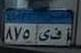5: (22, 29, 31, 40)
7: (13, 25, 22, 41)
8: (5, 25, 13, 42)
alif: (66, 28, 70, 42)
faa: (50, 28, 63, 41)
yaa: (37, 28, 51, 42)
